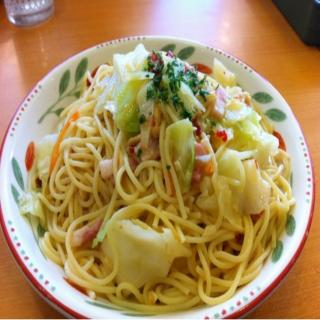Pasta: (29, 64, 289, 316)
